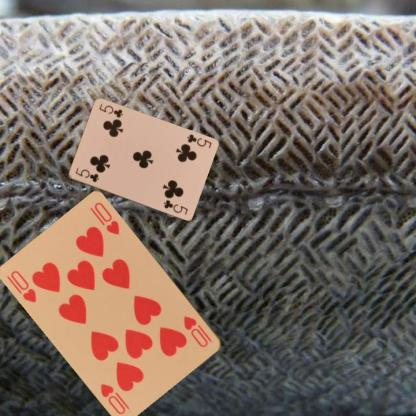10h: (181, 313, 214, 349), (8, 267, 38, 304)
5c: (184, 132, 213, 150), (73, 165, 100, 184)
